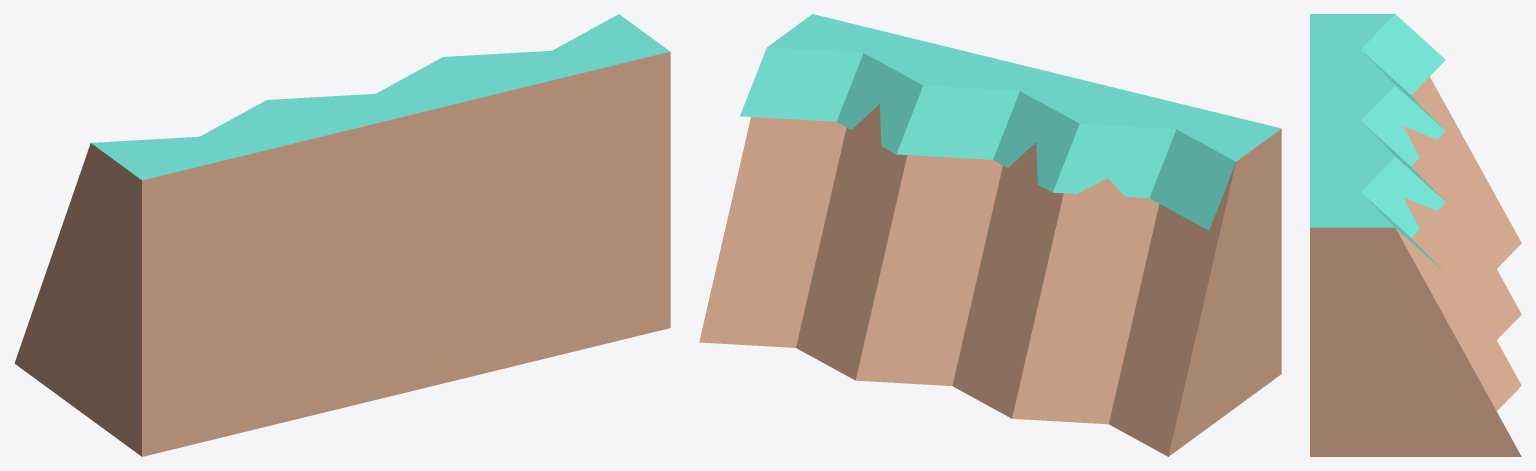
Rendered from cliff_half_rock.glb.
3 renders of one model, left to right at view 1: azimuth 30°, elevation 25°; view 2: azimuth 150°, elevation 25°; view 3: azimuth 270°, elevation 25°, orthographic. The views are drawn at different scales.
Parts seen in each view (by area): view 1: cliff_half_rock; view 2: cliff_half_rock; view 3: cliff_half_rock.
Part boxes in pixels (x1=…): cliff_half_rock: x1=14, y1=14, x2=670, y2=456; cliff_half_rock: x1=699, y1=14, x2=1281, y2=456; cliff_half_rock: x1=1310, y1=14, x2=1521, y2=456.
Bounding box in the file's own units: 1 × 0.5 × 0.4185.
